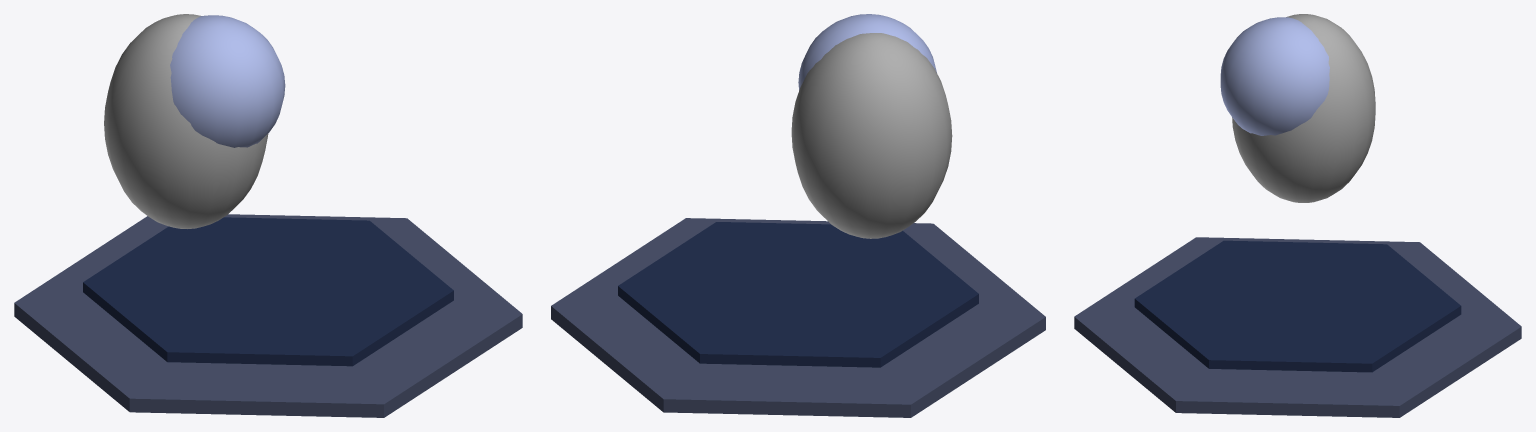
The model's file is Spawn.fbx.
3 views of the same model, side by side, from view 1: azimuth 30°, elevation 25°; view 2: azimuth 150°, elevation 25°; view 3: azimuth 270°, elevation 25° (orthographic). The views are drawn at different scales.
Parts seen in each view (by area): view 1: pPrism2, pPrism1, pSphere1, pSphere2; view 2: pPrism2, pPrism1, pSphere1, pSphere2; view 3: pPrism2, pPrism1, pSphere1, pSphere2.
Boxes of the visible parts, left/top/right/bottom form: pPrism2: left=83, top=217, right=453, bottom=366; pPrism1: left=14, top=214, right=522, bottom=417; pSphere1: left=104, top=14, right=268, bottom=228; pSphere2: left=170, top=15, right=285, bottom=147; pPrism2: left=618, top=222, right=978, bottom=367; pPrism1: left=551, top=218, right=1045, bottom=417; pSphere1: left=791, top=33, right=952, bottom=238; pSphere2: left=798, top=14, right=936, bottom=90; pPrism2: left=1134, top=240, right=1461, bottom=372; pPrism1: left=1074, top=237, right=1521, bottom=417; pSphere1: left=1232, top=14, right=1375, bottom=202; pSphere2: left=1220, top=17, right=1329, bottom=135.
Size of the model in its own units: 0.9174 by 0.7181 by 1.03.
